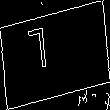L_S: (44, 28, 66, 82)
